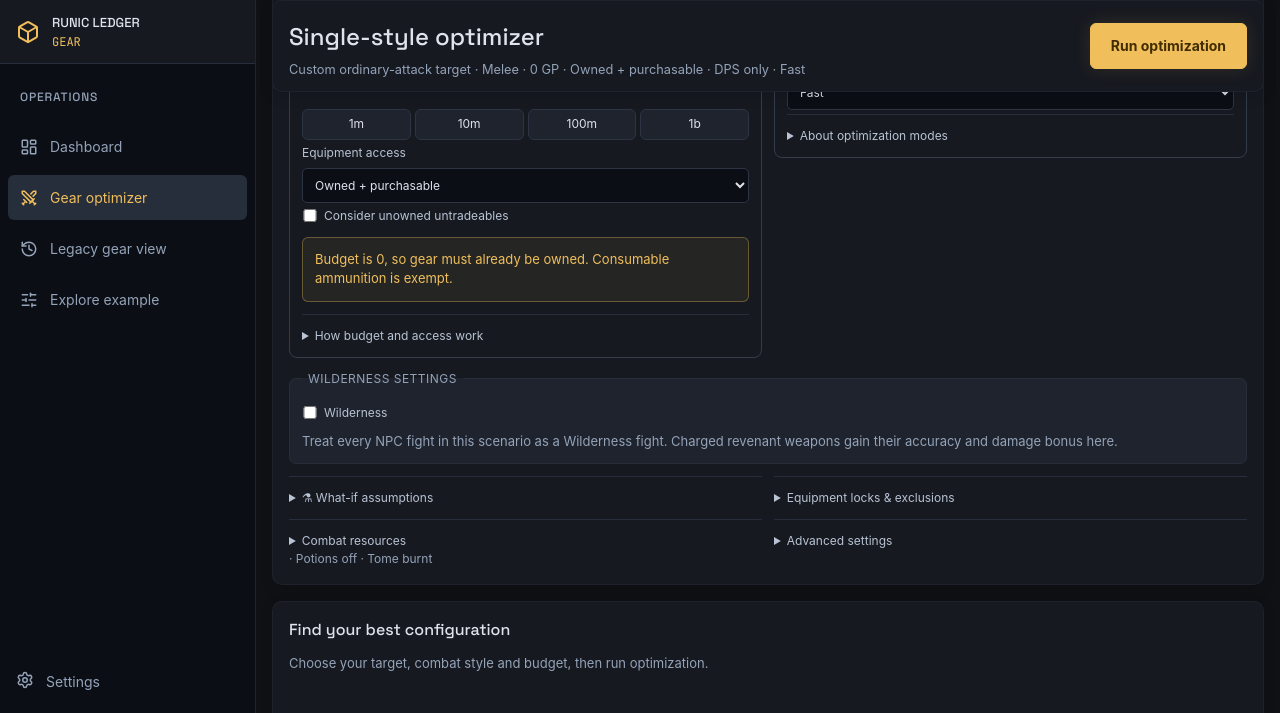
shows Wilderness risk, the loss without Protect Item, and packing quantities beside purchases
(page scrolled)
Click the checkbox labelled "Wilderness" at (310, 413), box x1=302 y1=406 x2=318 y2=419
(page scrolled)
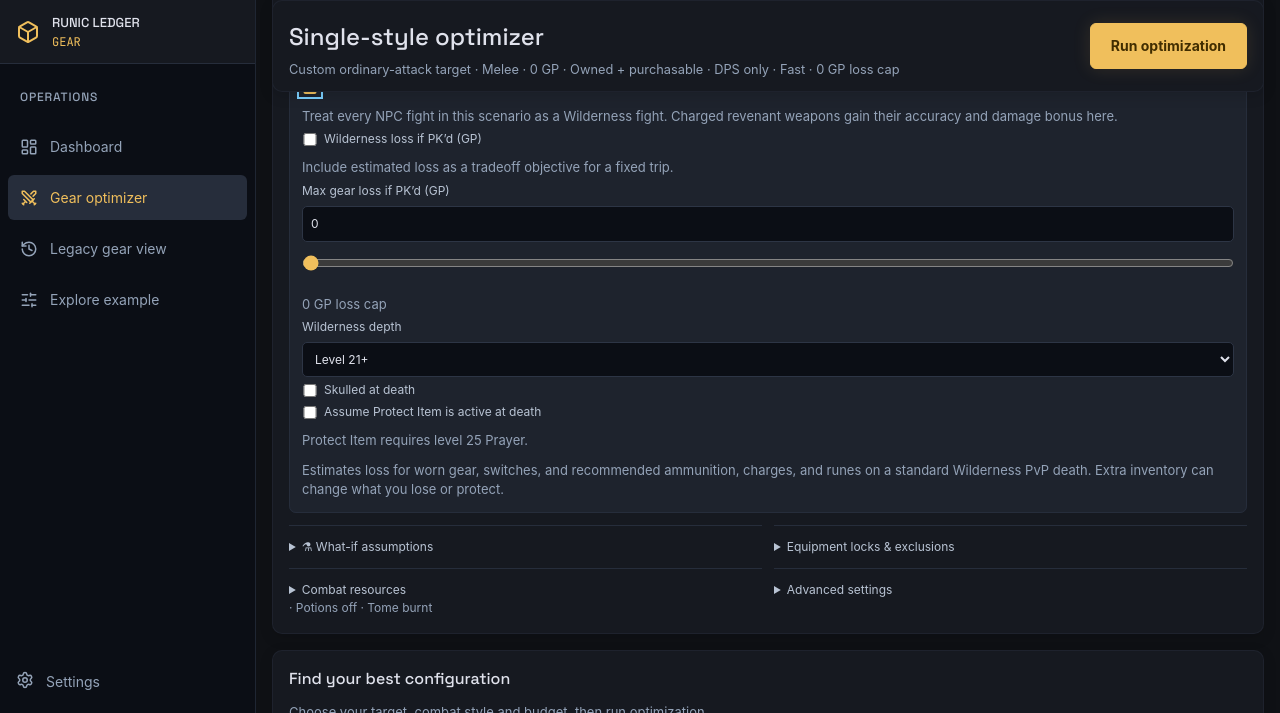
Click the checkbox labelled "Assume Protect Item is active at death" at (310, 412), box x1=302 y1=406 x2=318 y2=419
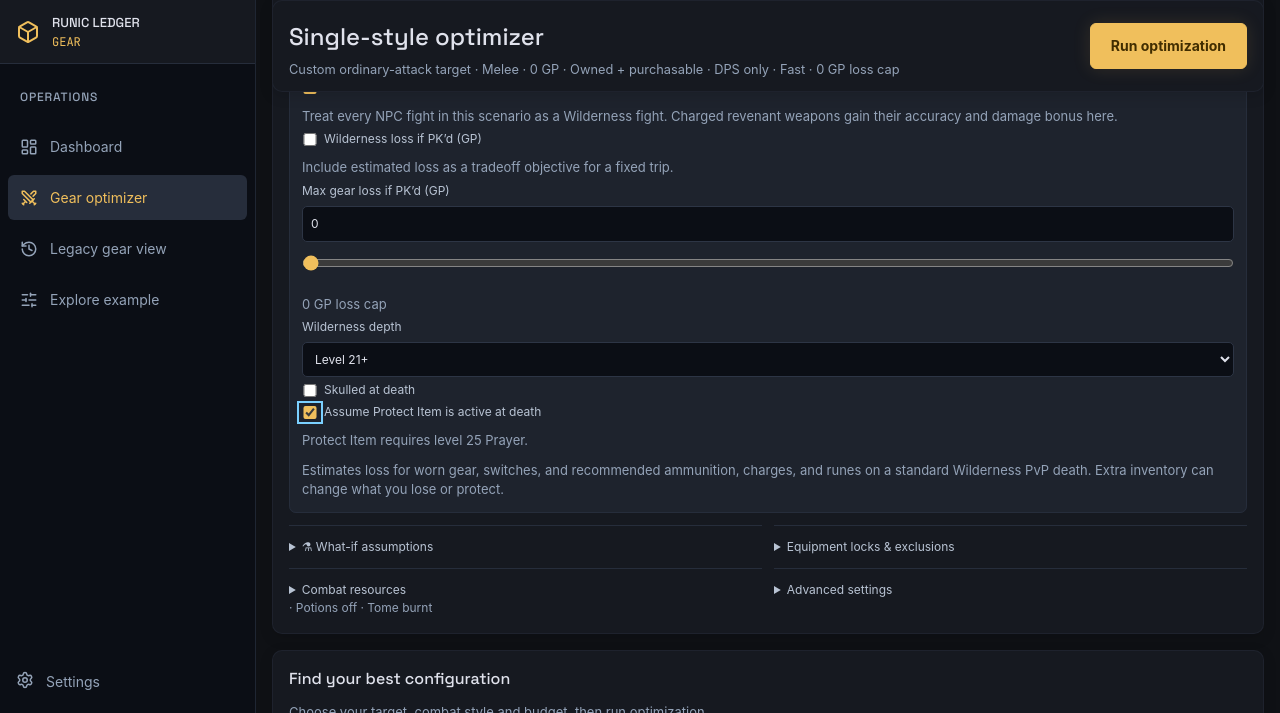
Replace the text in the field labelled "Max gear loss if PK’d (GP)" with "100" at (768, 224), box x1=302 y1=206 x2=1234 y2=242
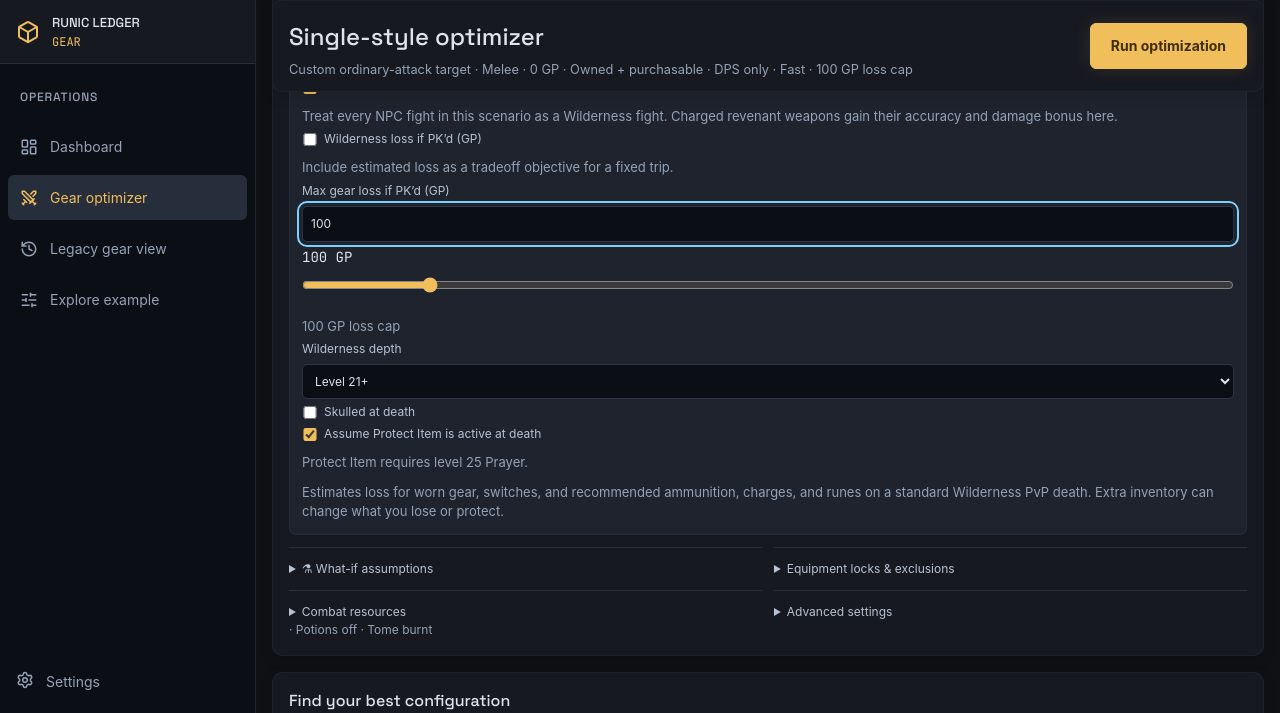
Click the button "Run optimization" at (1168, 46), box x1=1090 y1=23 x2=1247 y2=69
(page scrolled)
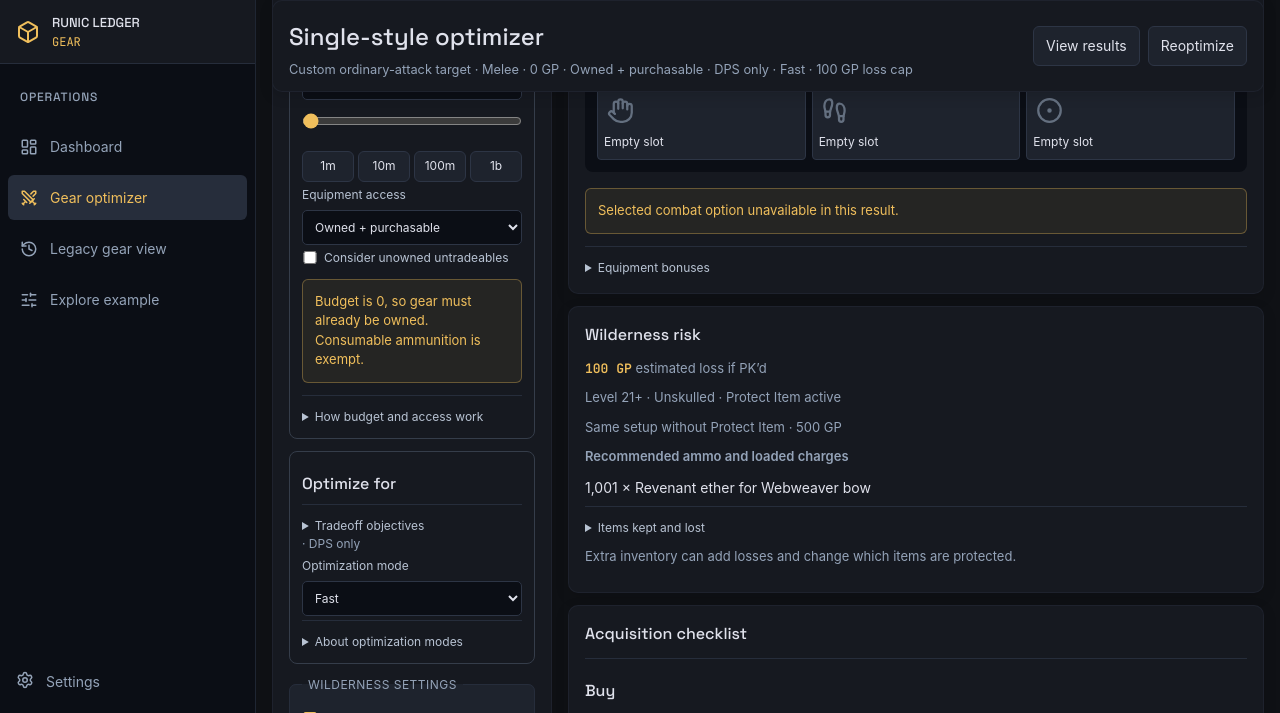
Check: the heading "Wilderness risk" is shown, box x1=585 y1=324 x2=701 y2=345
Check: the text "Same setup without Protect Item · 500 GP" is shown, box x1=585 y1=419 x2=842 y2=435
Check: the list item "1,001 × Revenant ether for Webweaver bow" is shown, box x1=585 y1=479 x2=871 y2=496
Click the heading "Items kept and lost" at (651, 527), box x1=598 y1=520 x2=705 y2=535
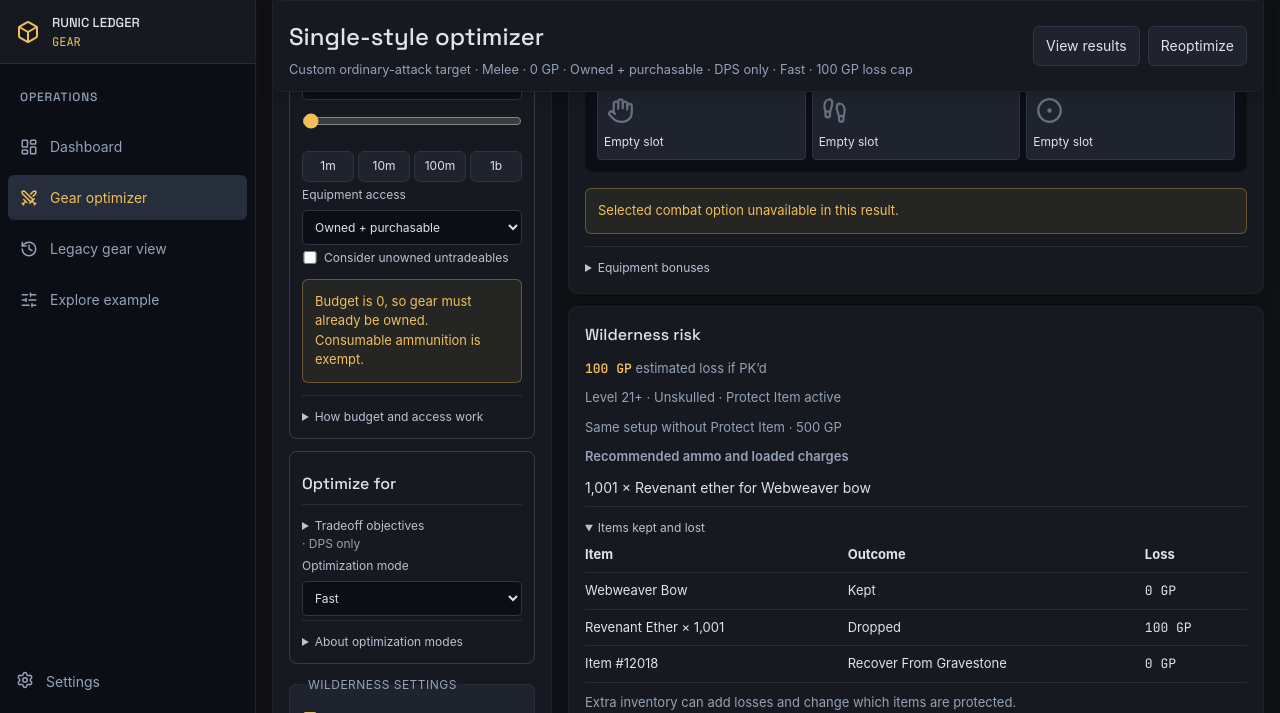
Check: the text "Recover from gravestone" is shown, box x1=848 y1=646 x2=1145 y2=682
